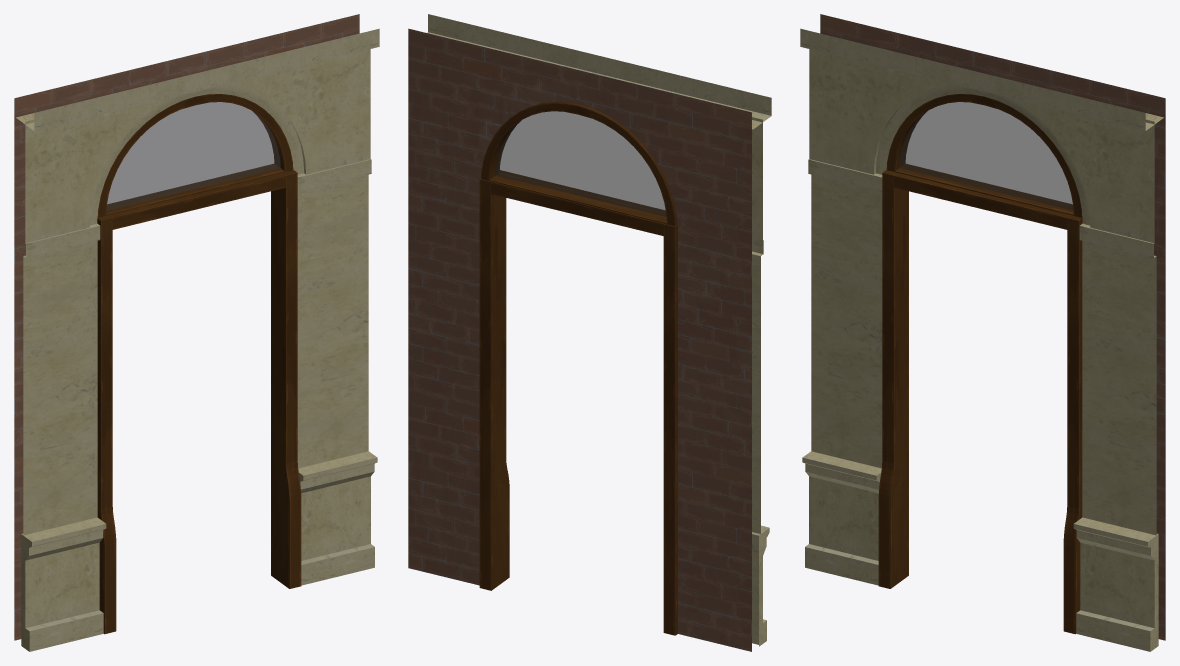
The model's file is DoorFrame_Trim.gltf.
3 renders of one model, left to right at view 1: azimuth 30°, elevation 25°; view 2: azimuth 150°, elevation 25°; view 3: azimuth 330°, elevation 25°, orthographic.
Parts seen in each view (by area): view 1: DoorFrame_Trim; view 2: DoorFrame_Trim; view 3: DoorFrame_Trim.
Boxes of the visible parts, x1,y1,x2,y2 form: DoorFrame_Trim: [14, 14, 379, 651]; DoorFrame_Trim: [408, 14, 771, 651]; DoorFrame_Trim: [800, 14, 1165, 651].
Bounding box in the file's own units: 2 × 3 × 0.2256.
4 materials, 3 textured.
